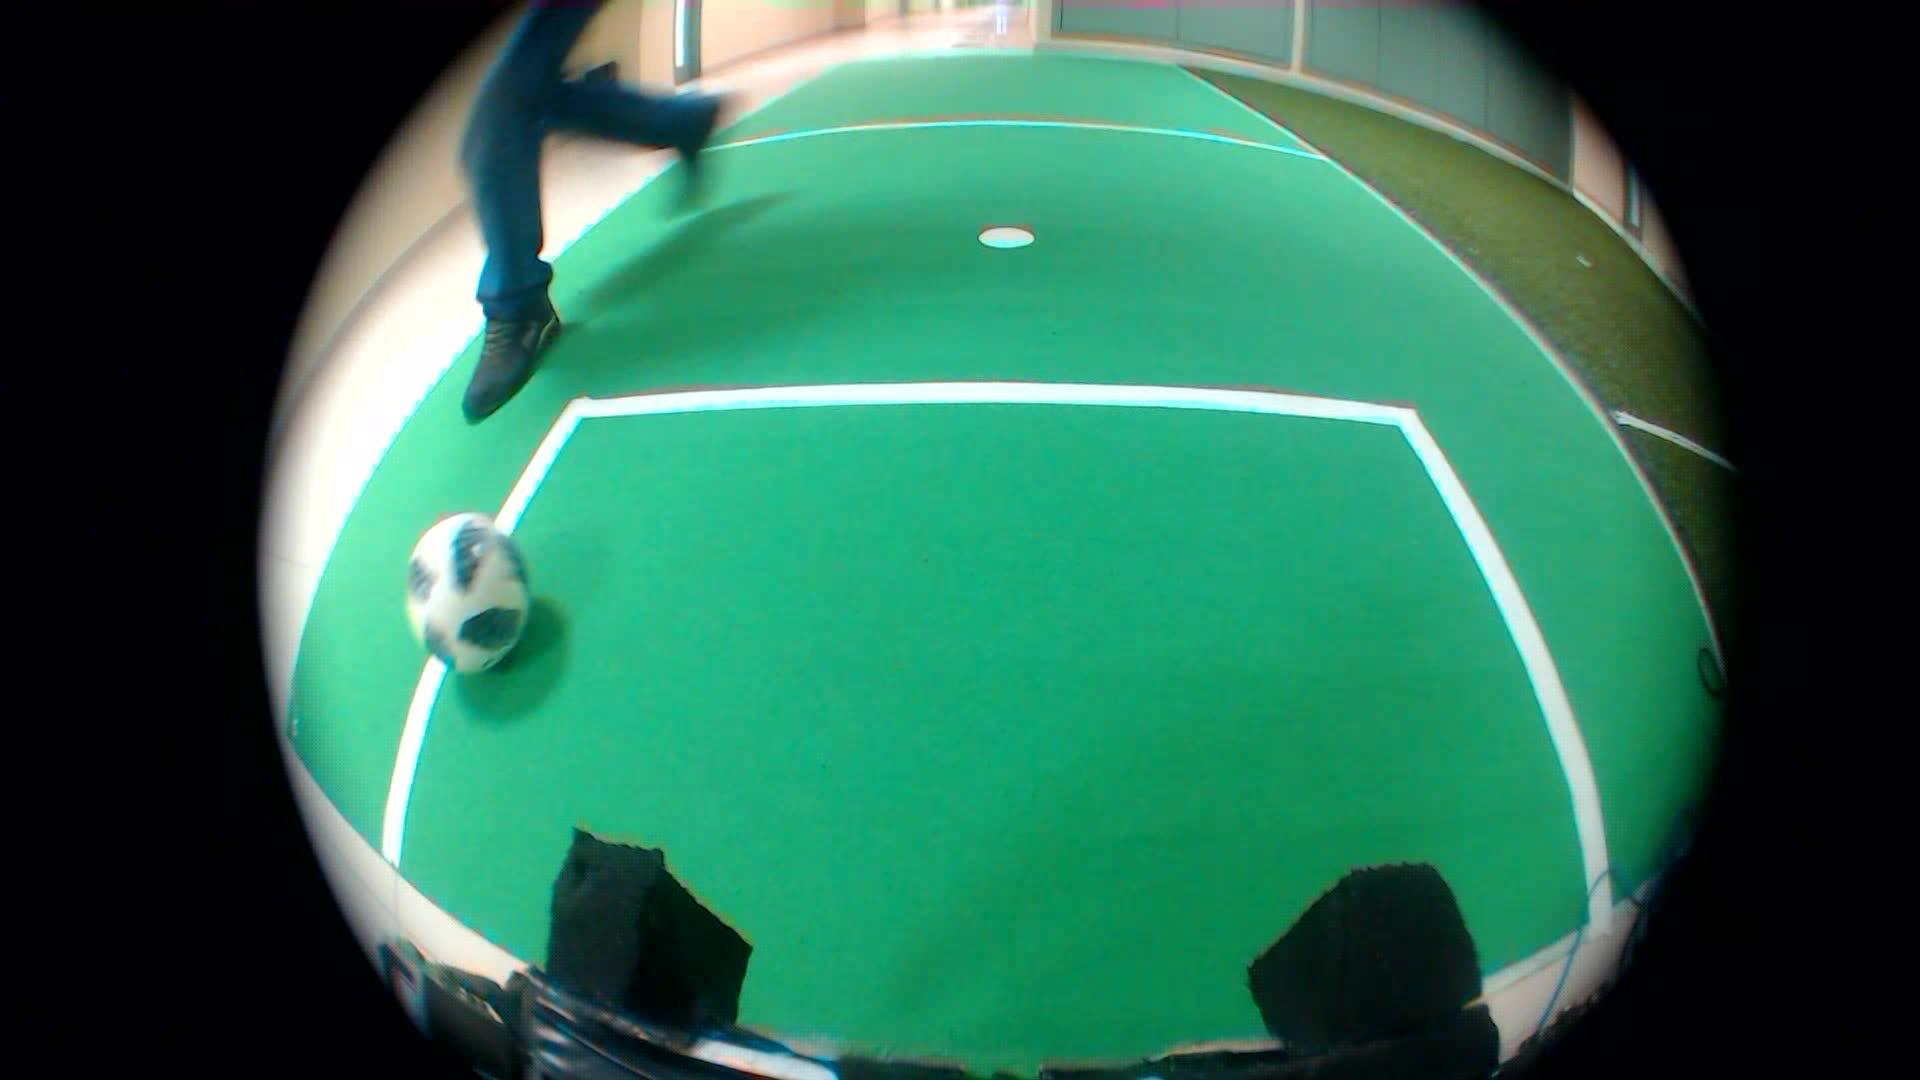ball: (393, 498, 551, 679)
